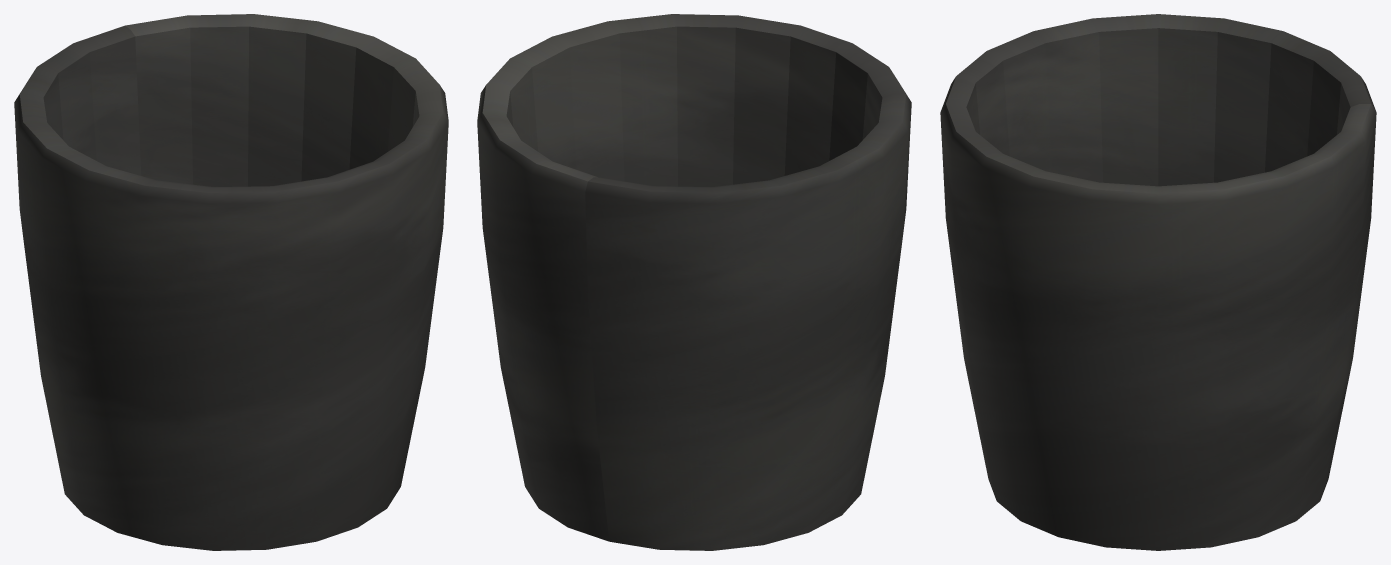
The model's file is 3Dmodel_tin_Trash_Bin_V1_BS.fbx.
The picture shows the model from 3 angles, left to right: view 1: azimuth 30°, elevation 25°; view 2: azimuth 150°, elevation 25°; view 3: azimuth 270°, elevation 25°; orthographic projection.
Visible parts, largest first — view 1: Assets_TinTrashBin_V1_bs; view 2: Assets_TinTrashBin_V1_bs; view 3: Assets_TinTrashBin_V1_bs.
Boxes of the visible parts, x1,y1,x2,y2 form: Assets_TinTrashBin_V1_bs: [14, 14, 448, 550]; Assets_TinTrashBin_V1_bs: [477, 14, 911, 550]; Assets_TinTrashBin_V1_bs: [940, 14, 1376, 550].
Bounding box in the file's own units: 2.11 × 2 × 2.11.
1 material, 1 textured.
